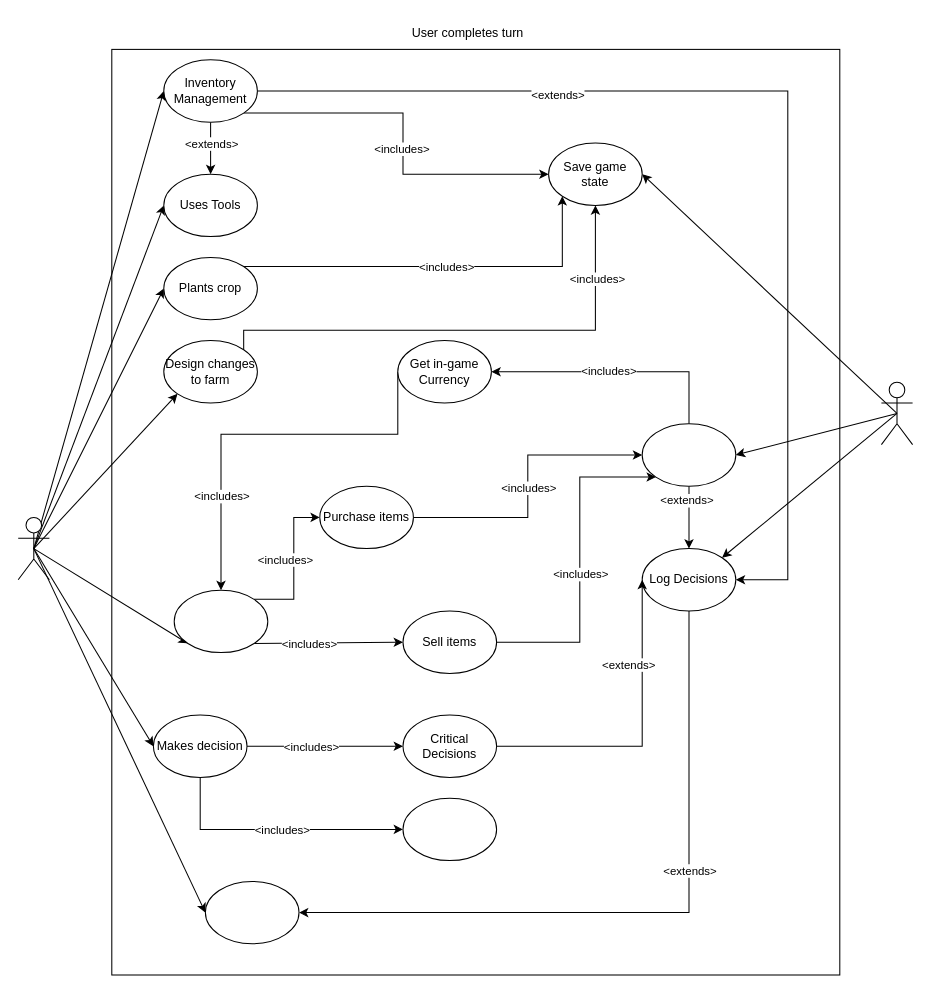
The diagram is 936 pixels wide and 993 high, and some of its shapes have lost their labels. The shapes that lost their labels are listed below. From the top down, each one's centre as x and y in pixels, then its label:
the point at 896,413: System
the point at 688,454: Update in-game Currency
the point at 33,548: User
the point at 220,621: Access shop
the point at 449,829: Decoy Decisions
the point at 251,912: Turn summary
